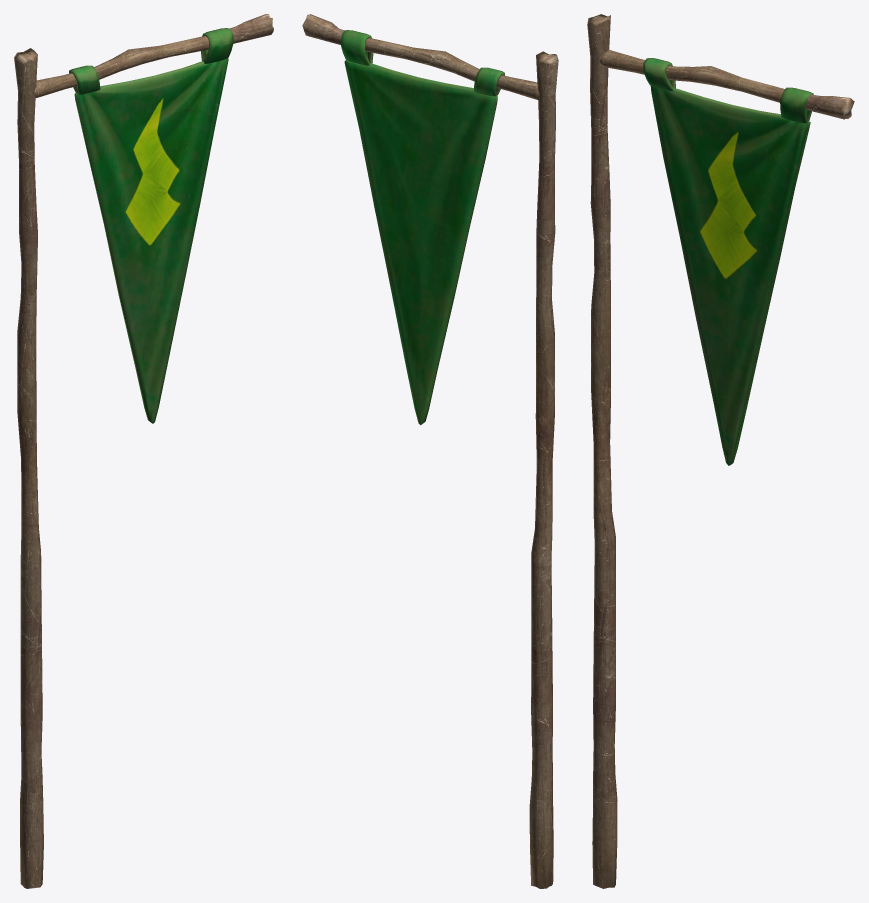
3 renders of one model, left to right at view 1: azimuth 30°, elevation 25°; view 2: azimuth 150°, elevation 25°; view 3: azimuth 330°, elevation 25°, orthographic. The views are drawn at different scales.
Parts seen in each view (by area): view 1: SM_Single_Banner_Guthix_01v2_LOD0; view 2: SM_Single_Banner_Guthix_01v2_LOD0; view 3: SM_Single_Banner_Guthix_01v2_LOD0.
Boxes of the visible parts, <box> form: SM_Single_Banner_Guthix_01v2_LOD0: <box>14,14,273,888</box>; SM_Single_Banner_Guthix_01v2_LOD0: <box>302,14,558,888</box>; SM_Single_Banner_Guthix_01v2_LOD0: <box>587,14,854,888</box>.
Size of the model in its own units: 1.39 by 4.39 by 0.1182.
2 materials, 2 textured.
